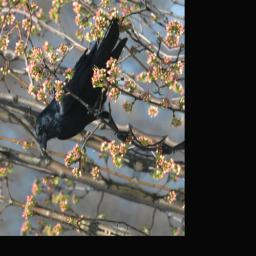Crow: (25, 4, 154, 179)
